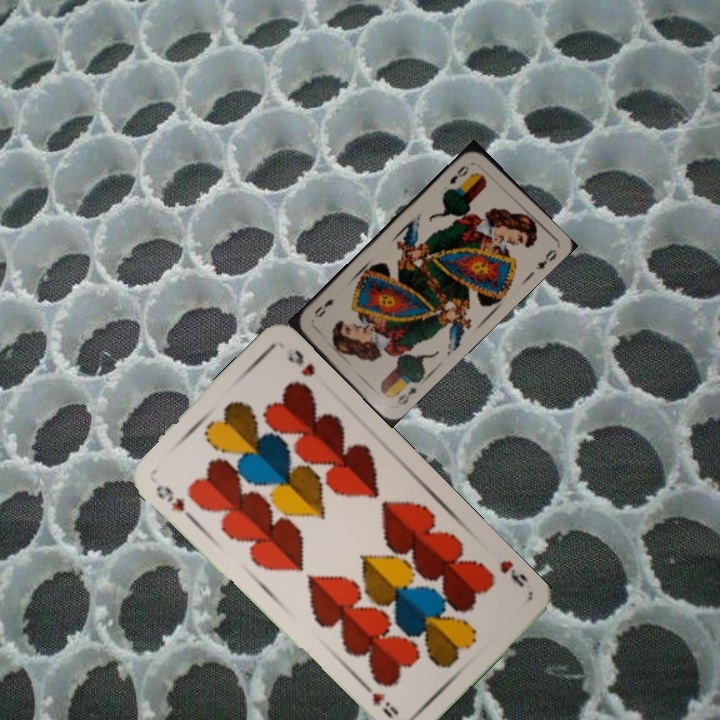EO: (445, 161, 472, 187), (393, 383, 419, 408)
H9: (496, 556, 532, 590), (152, 480, 187, 514)
